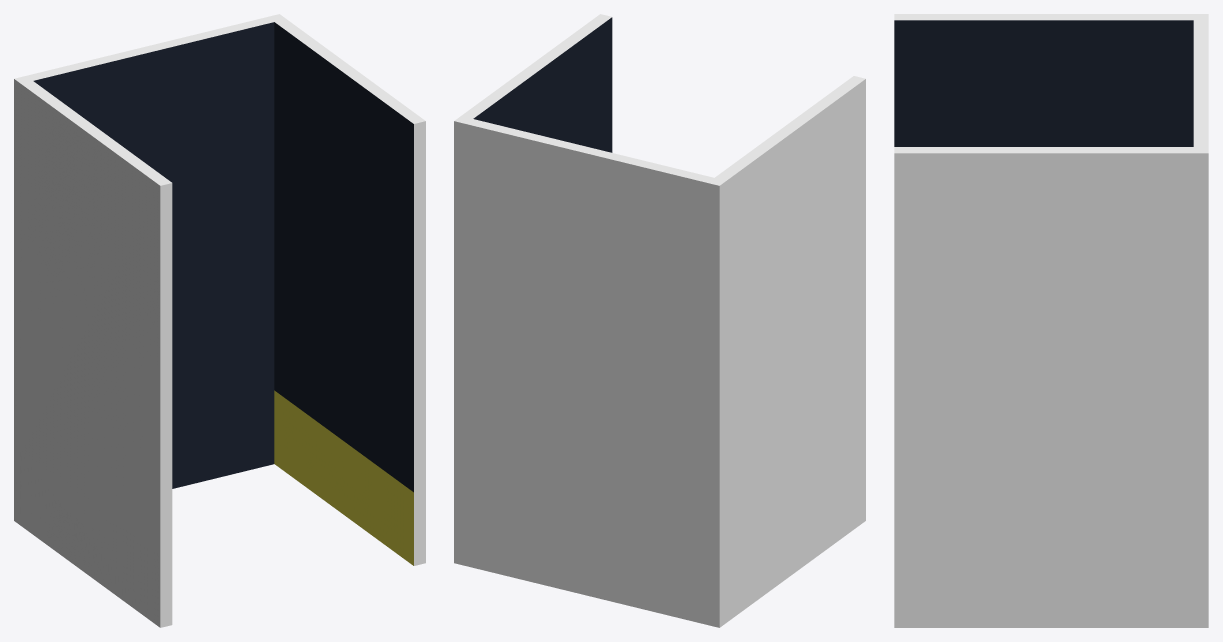
File: Prop_WallCShape_04.fbx
The picture shows the model from 3 angles, left to right: view 1: azimuth 30°, elevation 25°; view 2: azimuth 150°, elevation 25°; view 3: azimuth 270°, elevation 25°; orthographic projection. The views are drawn at different scales.
Parts seen in each view (by area): view 1: Prop_WallCShape_04; view 2: Prop_WallCShape_04; view 3: Prop_WallCShape_04.
Part boxes in pixels (bbox=[...]): Prop_WallCShape_04: bbox=[14, 14, 425, 627]; Prop_WallCShape_04: bbox=[454, 14, 865, 627]; Prop_WallCShape_04: bbox=[894, 14, 1208, 627].
Bounding box in the file's own units: 220 × 350 × 210.
